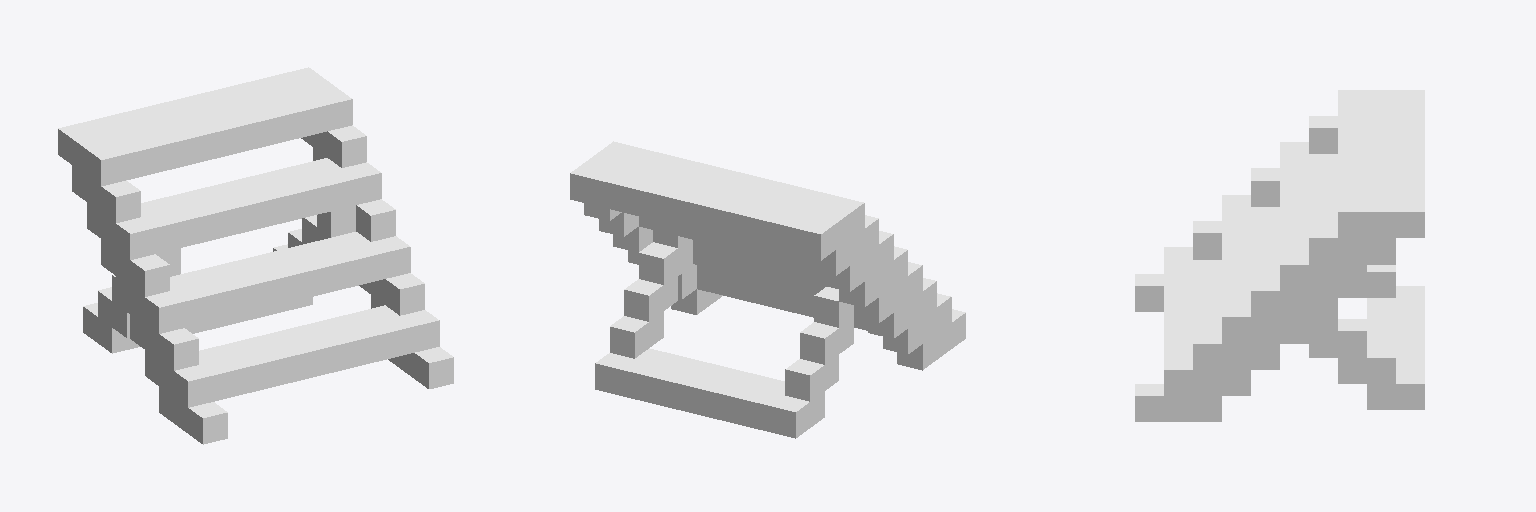
The model's file is SmallStairs.obj.
The picture shows the model from 3 angles: view 1: azimuth 30°, elevation 25°; view 2: azimuth 150°, elevation 25°; view 3: azimuth 270°, elevation 25°; orthographic projection.
Visible parts, largest first — view 1: SmallStairs; view 2: SmallStairs; view 3: SmallStairs.
Part boxes in pixels (x1,y1,x2,y2): SmallStairs: (58, 67, 453, 444); SmallStairs: (570, 141, 965, 438); SmallStairs: (1135, 90, 1424, 421).
Size of the model in its own units: 10 by 8 by 10.